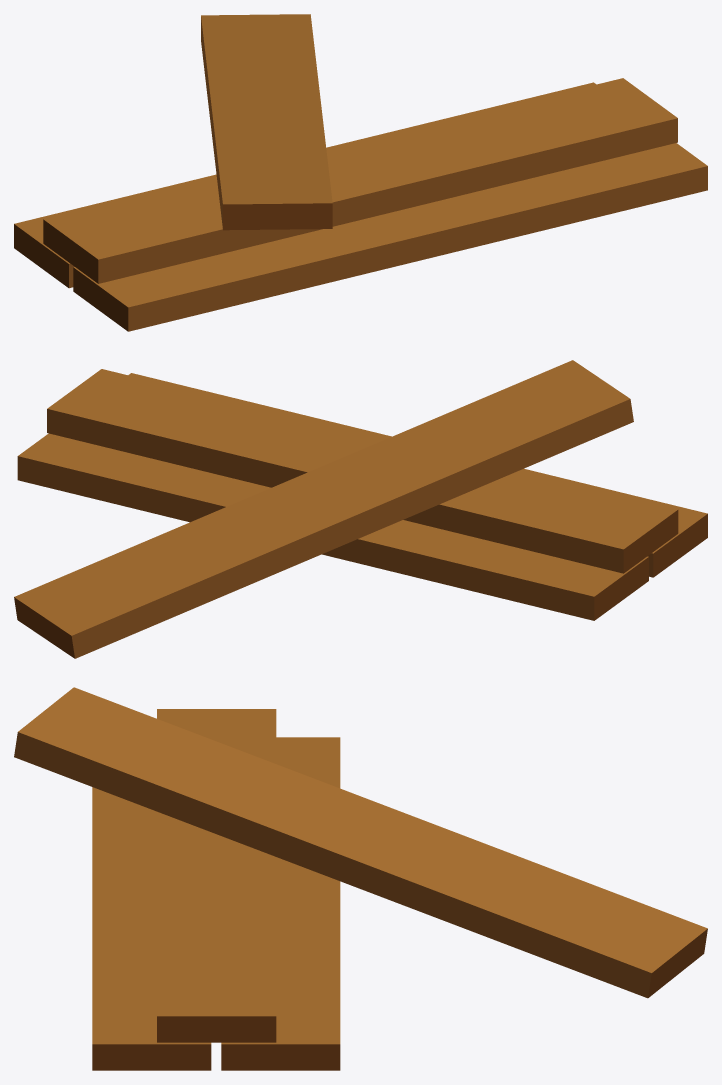
The model's file is Tabuas_v2.fbx.
3 renders of one model, top to bottom at view 1: azimuth 30°, elevation 25°; view 2: azimuth 150°, elevation 25°; view 3: azimuth 270°, elevation 25°, orthographic. The views are drawn at different scales.
Parts seen in each view (by area): view 1: Tabuas_v2; view 2: Tabuas_v2; view 3: Tabuas_v2.
Part boxes in pixels (x1,y1,x2,y2): Tabuas_v2: (14,14,707,331); Tabuas_v2: (14,360,707,658); Tabuas_v2: (14,687,707,1070).
Bounding box in the file's own units: 4.36 × 4.17 × 0.8259.
